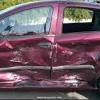doorouter-dent: (0, 37, 53, 89), (55, 36, 99, 89)
pillar-dent: (49, 5, 65, 36)
